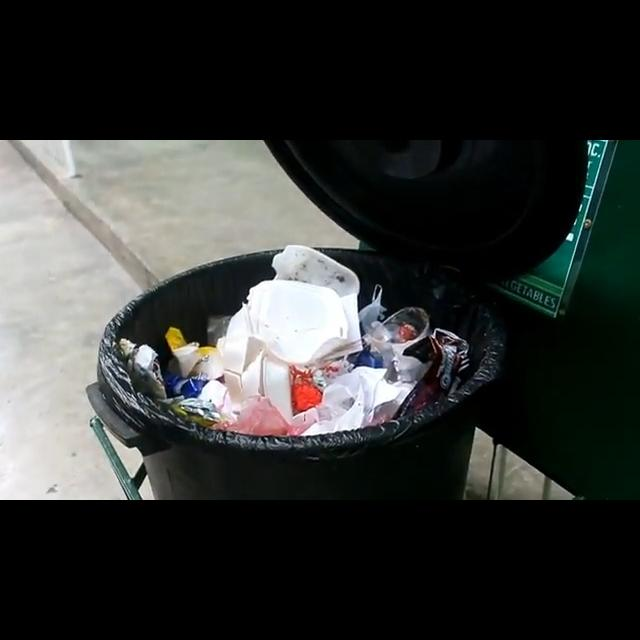paper: (222, 252, 365, 398), (311, 362, 398, 440)
plastic: (391, 327, 467, 418), (204, 391, 311, 441), (155, 322, 211, 358)
